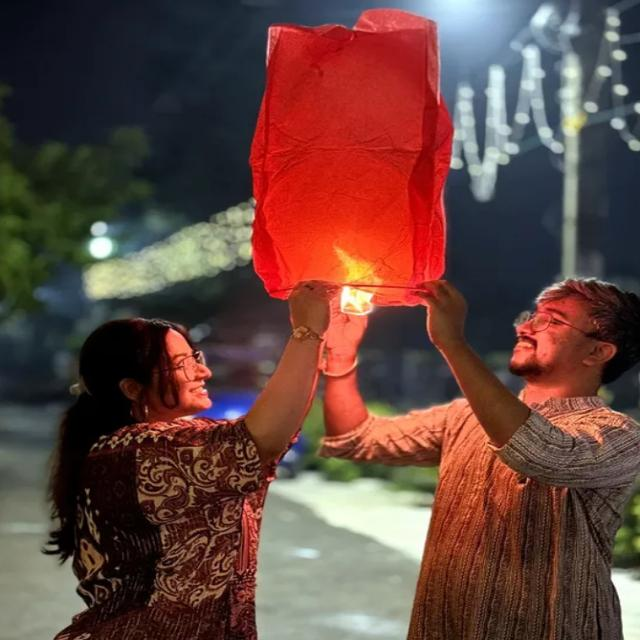fire: (334, 246, 380, 314)
